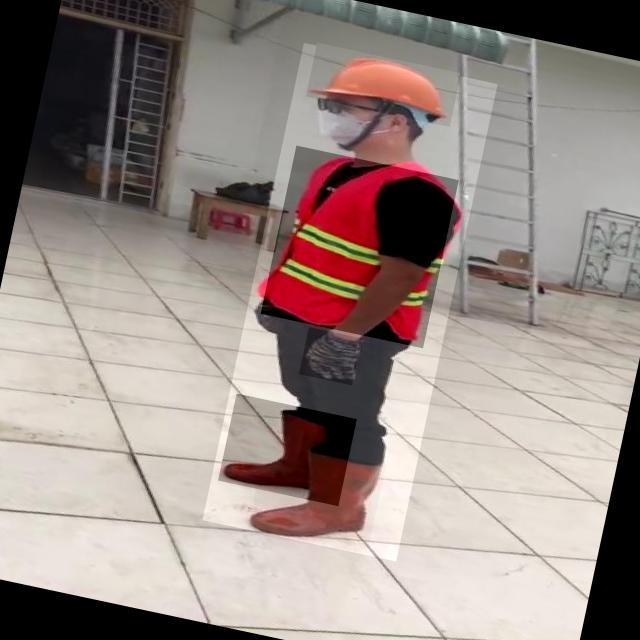Gloves: (299, 327, 362, 385)
Helmet: (306, 43, 461, 127)
Human: (203, 43, 498, 562)
Safety Boot: (218, 394, 358, 508), (247, 441, 385, 554)
Safety Vest: (260, 145, 458, 348)
